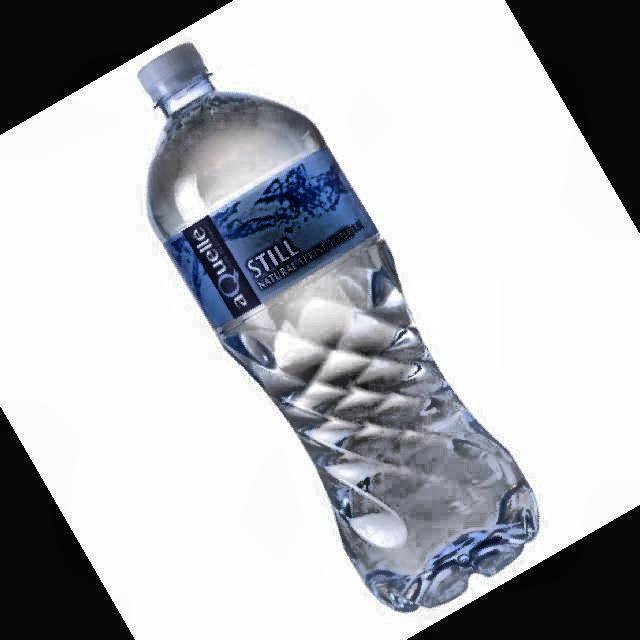plastic: (139, 44, 539, 611)
